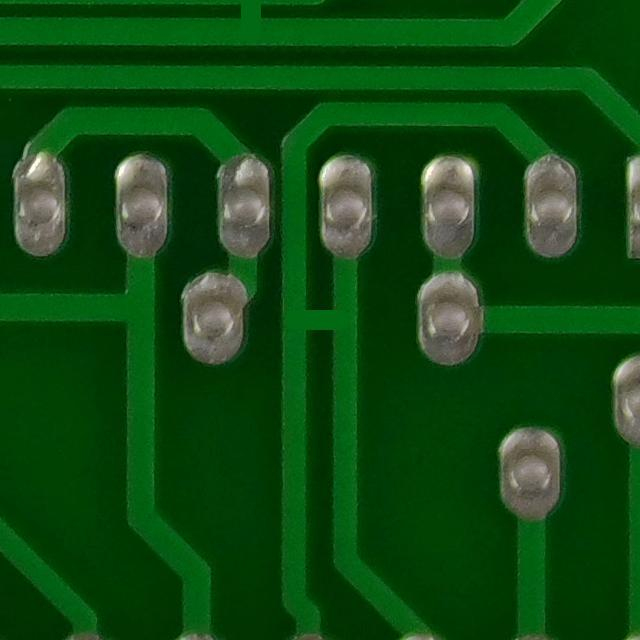short: (257, 297, 384, 344)
